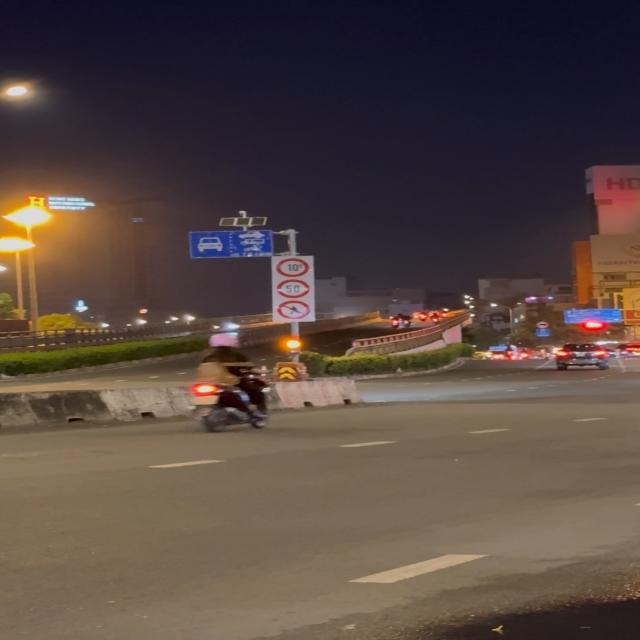Bien bao cam nguoi di bo: (276, 300, 312, 320)
Bien bao toc do toi da cho phep: (274, 279, 312, 298)
